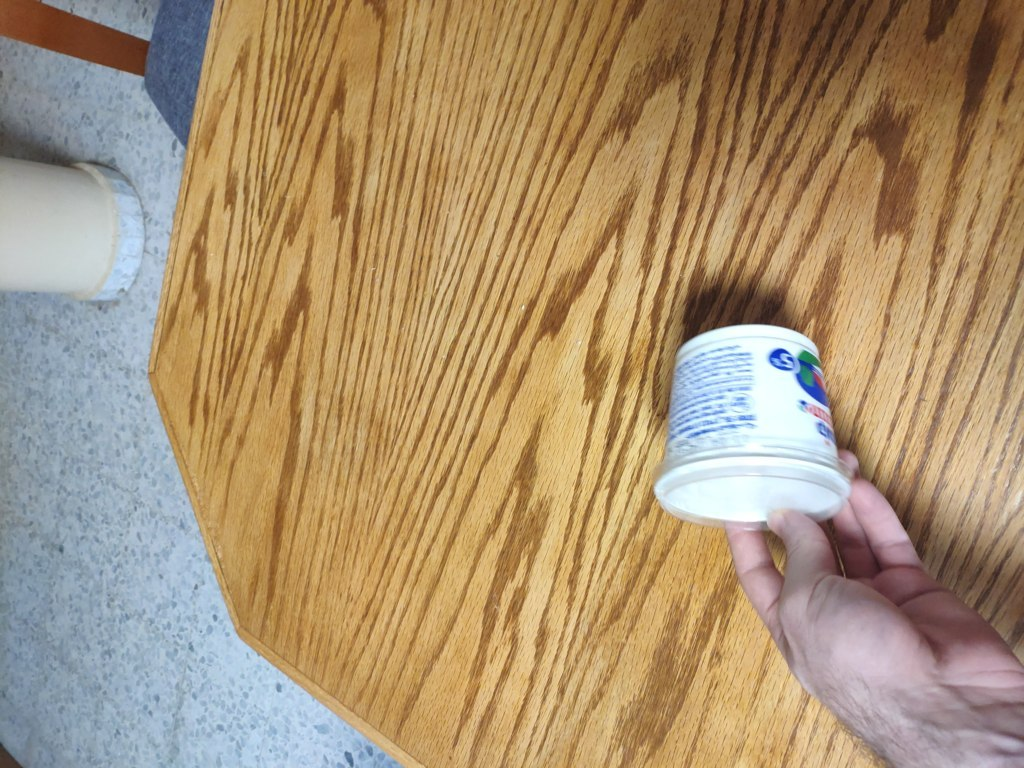Cotage: (637, 353, 831, 557)
